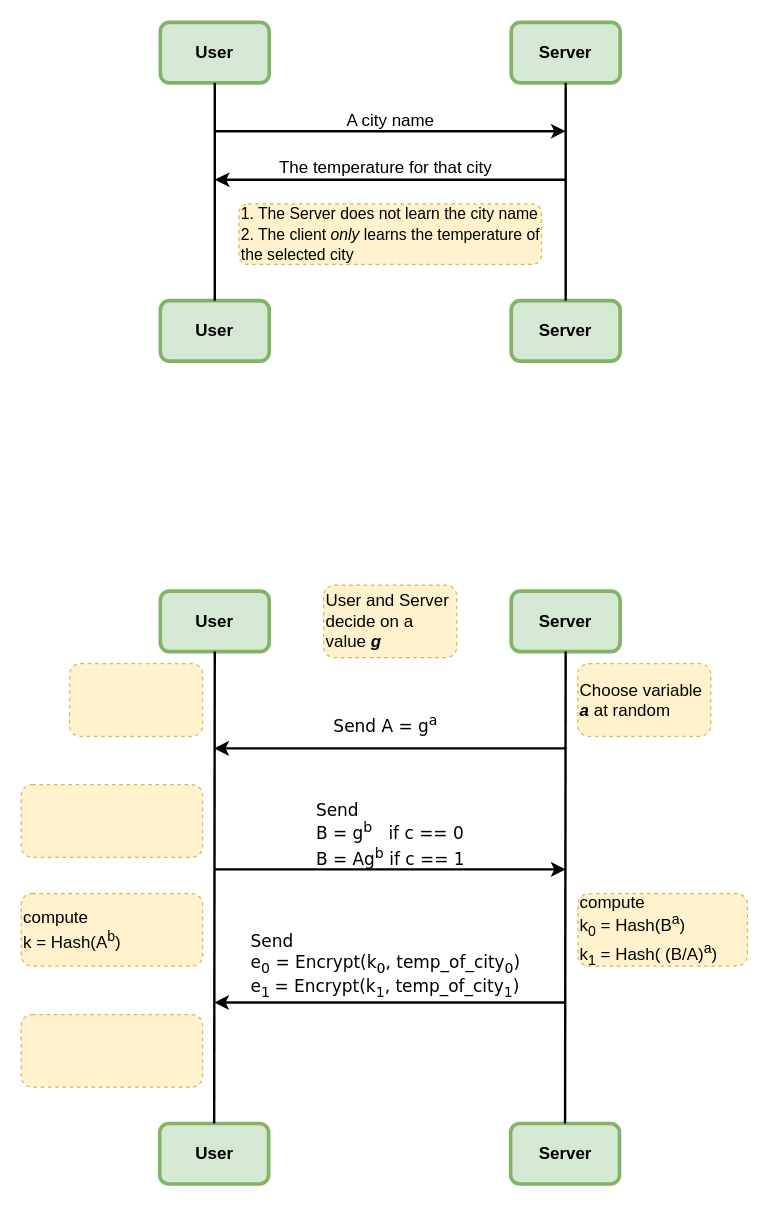
This 770x1206 diagram has some shape labels left out. The shapes that lost their labels are listed below. From the top down, each one's centre as x and y in pixels, then its label:
At (x=135, y=699): "Choose variable b at random".
At (x=111, y=820): "c=0 if want 1st city c=1 if want 2nd city".
At (x=111, y=1050): "Obtain temp_of_city by Decrypt(k, e c )".
